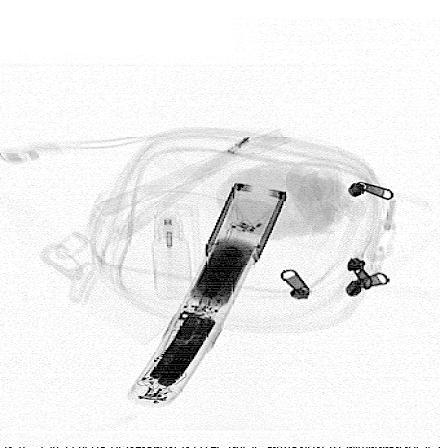Baton: (125, 180, 291, 409)
